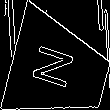N_E: (33, 44, 85, 96)
